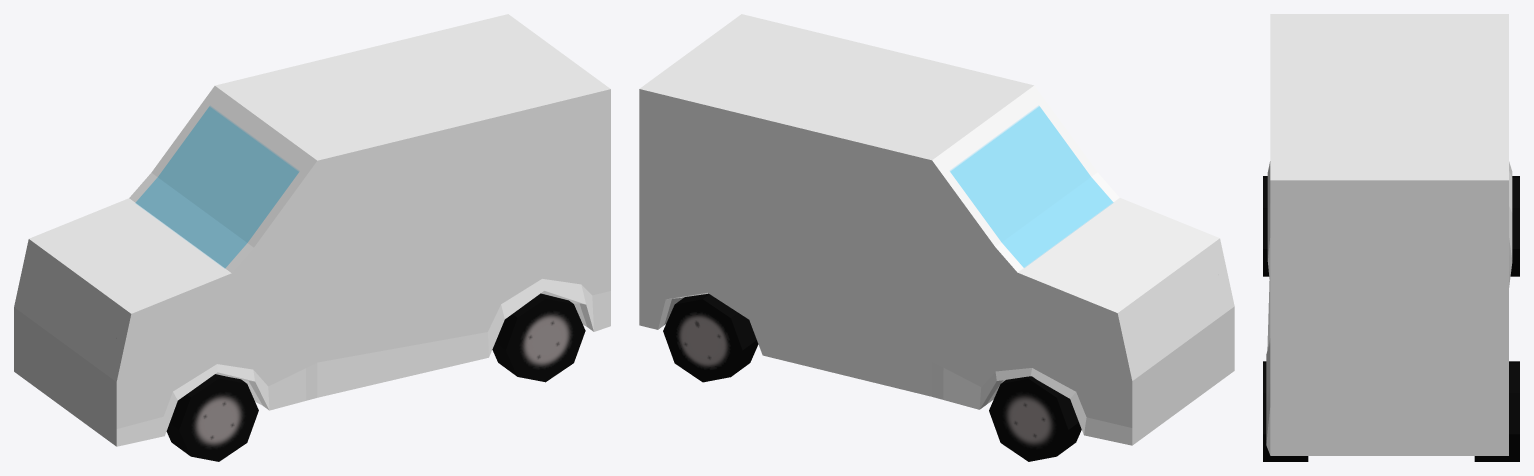
The model's file is van.fbx.
The picture shows the model from 3 angles, left to right: view 1: azimuth 30°, elevation 25°; view 2: azimuth 150°, elevation 25°; view 3: azimuth 270°, elevation 25°; orthographic projection. The views are drawn at different scales.
Parts seen in each view (by area): view 1: Cube; view 2: Cube; view 3: Cube.
Part boxes in pixels (x1,y1,x2,y2): Cube: [14, 14, 610, 461]; Cube: [639, 14, 1234, 461]; Cube: [1263, 14, 1519, 461].
Size of the model in its own units: 160 by 84.81 by 61.96.
